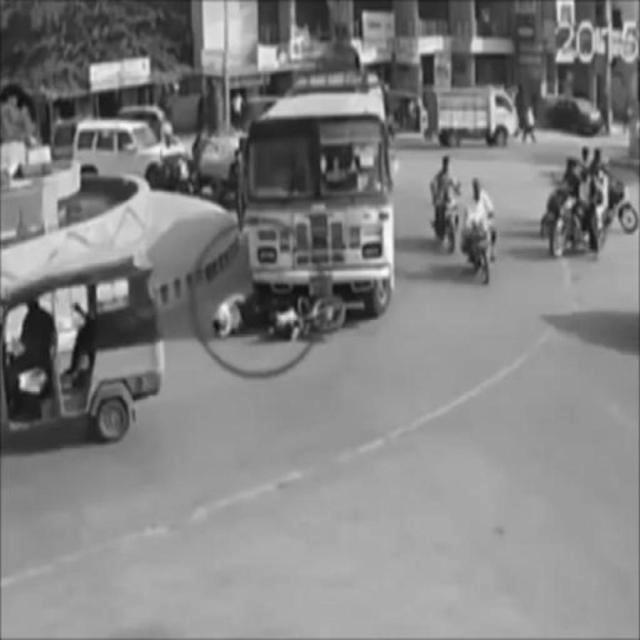accident: (214, 74, 392, 348)
vehicle: (2, 251, 162, 437), (76, 114, 179, 190), (553, 159, 609, 259), (465, 174, 495, 284), (428, 150, 458, 251)
